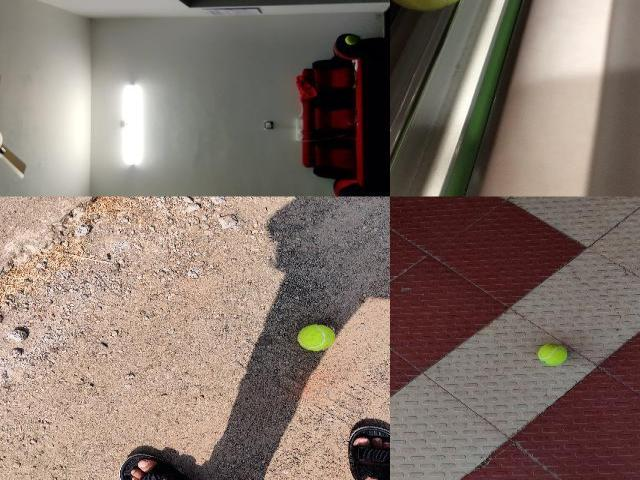tennis-ball: (298, 324, 334, 350), (538, 343, 566, 365), (344, 35, 358, 45)
